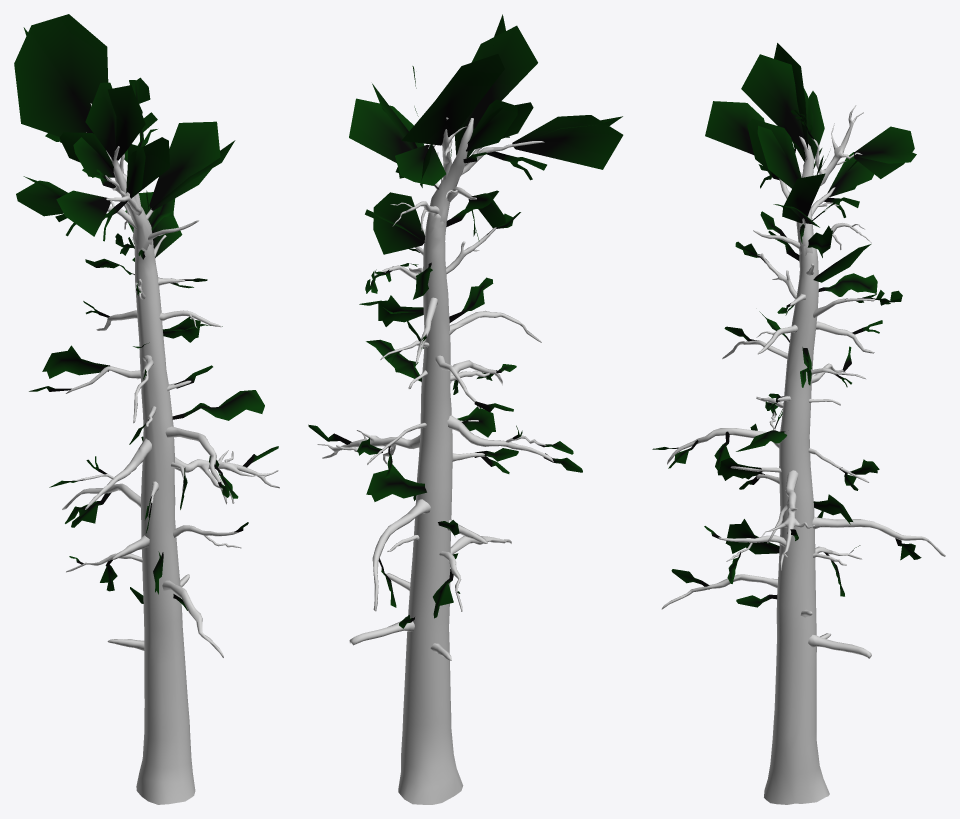
The model's file is WhitebarkPineRHEP_B.fbx.
3 views of the same model, side by side, from view 1: azimuth 30°, elevation 25°; view 2: azimuth 150°, elevation 25°; view 3: azimuth 270°, elevation 25° (orthographic). The views are drawn at different scales.
Visible parts, largest first — view 1: WBPRHEPLeavesB_LOD0, WBPRHEPBarkB_LOD0; view 2: WBPRHEPBarkB_LOD0, WBPRHEPLeavesB_LOD0; view 3: WBPRHEPBarkB_LOD0, WBPRHEPLeavesB_LOD0.
Boxes of the visible parts, box(x1,y1,x2,y2) form: WBPRHEPLeavesB_LOD0: box(14, 14, 278, 610); WBPRHEPBarkB_LOD0: box(62, 103, 279, 804); WBPRHEPBarkB_LOD0: box(317, 117, 553, 804); WBPRHEPLeavesB_LOD0: box(308, 14, 623, 628); WBPRHEPBarkB_LOD0: box(661, 105, 945, 804); WBPRHEPLeavesB_LOD0: box(652, 43, 921, 607).
Size of what is drawn, in the model's own units: 6.07 by 16.6 by 5.89.
